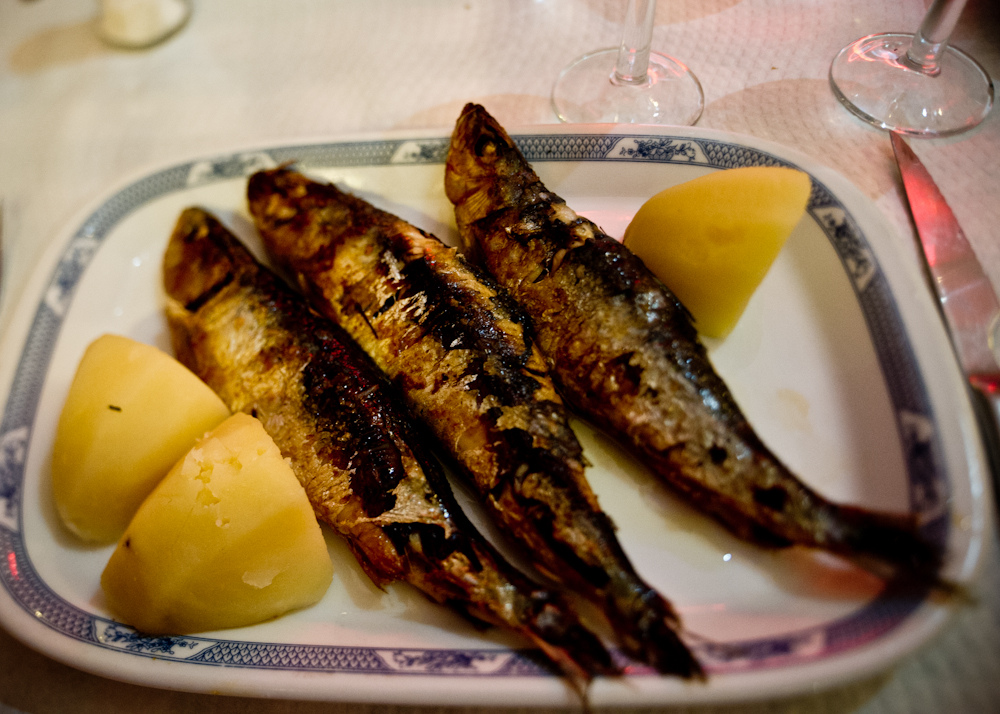boiled potatoes: (102, 418, 299, 633), (636, 162, 817, 324), (51, 338, 191, 539)
